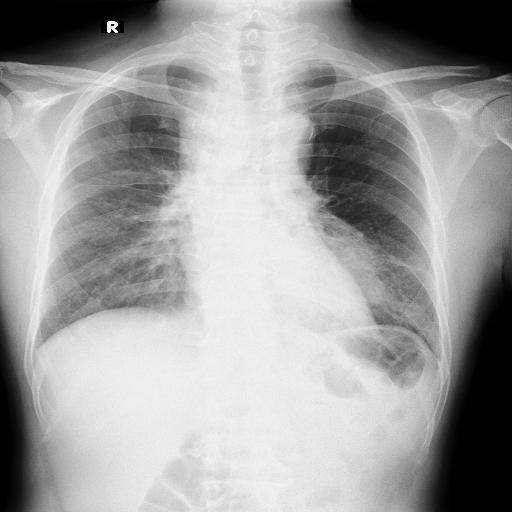Consolidation: (246, 150, 368, 270)
Infiltration: (282, 179, 360, 269)
Lung Opacity: (270, 181, 356, 269), (156, 40, 204, 146)
